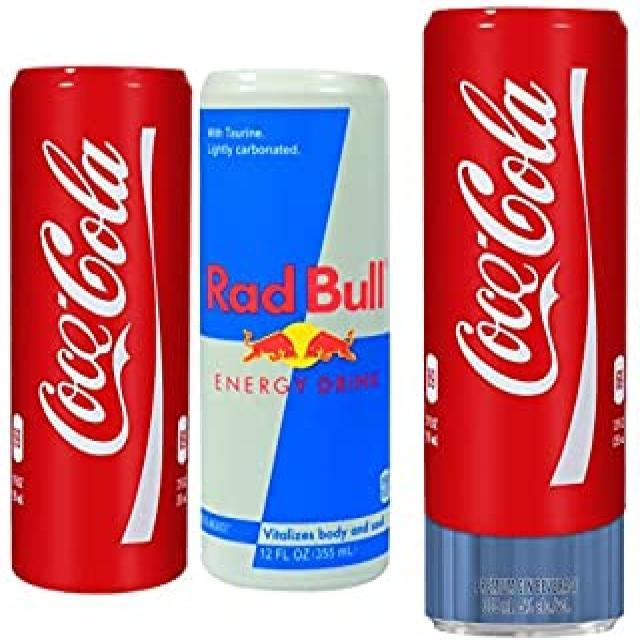can: (415, 0, 630, 636), (190, 61, 402, 608), (2, 57, 194, 618)
